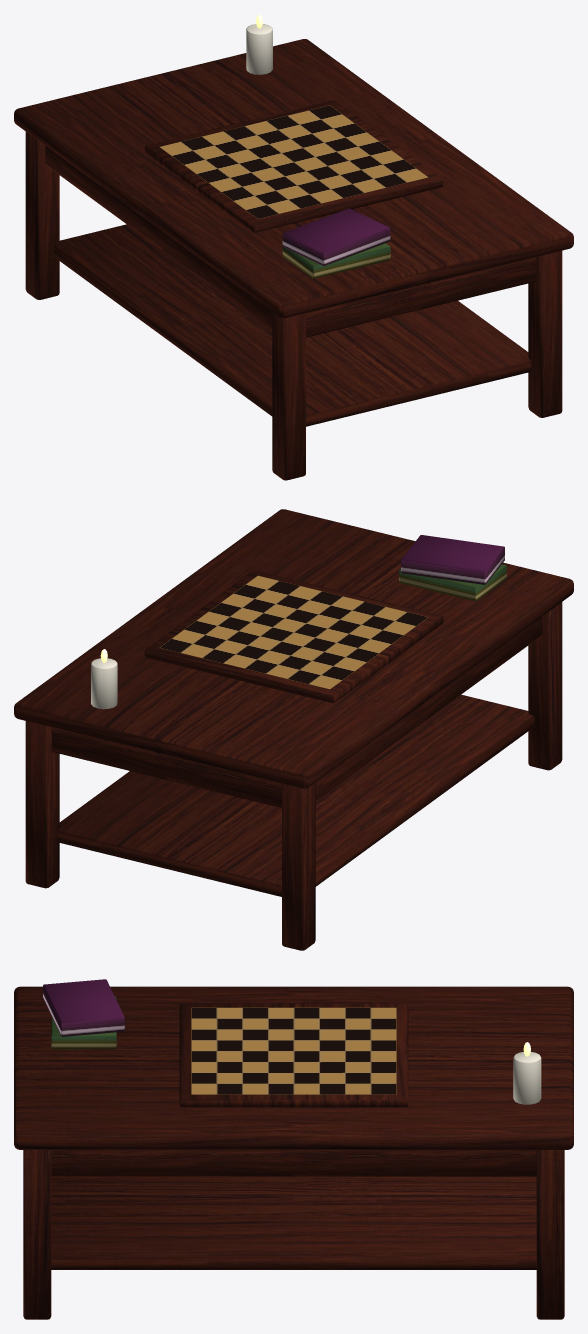
The model's file is coffee_table.glb.
3 views of the same model, one above another, from view 1: azimuth 30°, elevation 25°; view 2: azimuth 150°, elevation 25°; view 3: azimuth 270°, elevation 25° (orthographic). The views are drawn at different scales.
Parts seen in each view (by area): view 1: Mantel wood, Chess squares, Book spines, Candle; view 2: Mantel wood, Chess squares, Book spines, Candle; view 3: Mantel wood, Chess squares, Book spines, Candle.
Part boxes in pixels (x1,y1,x2,y2): Mantel wood: (14, 39, 573, 480); Chess squares: (160, 105, 428, 218); Book spines: (282, 208, 390, 278); Candle: (246, 24, 272, 74); Mantel wood: (14, 509, 573, 950); Chess squares: (159, 575, 428, 689); Book spines: (399, 535, 506, 601); Candle: (91, 658, 117, 709); Mantel wood: (14, 986, 573, 1319); Chess squares: (191, 1007, 396, 1094); Book spines: (43, 979, 124, 1049); Candle: (513, 1051, 541, 1104).
Size of the model in its own units: 0.76 by 0.5856 by 1.2.
5 materials, 3 textured.
